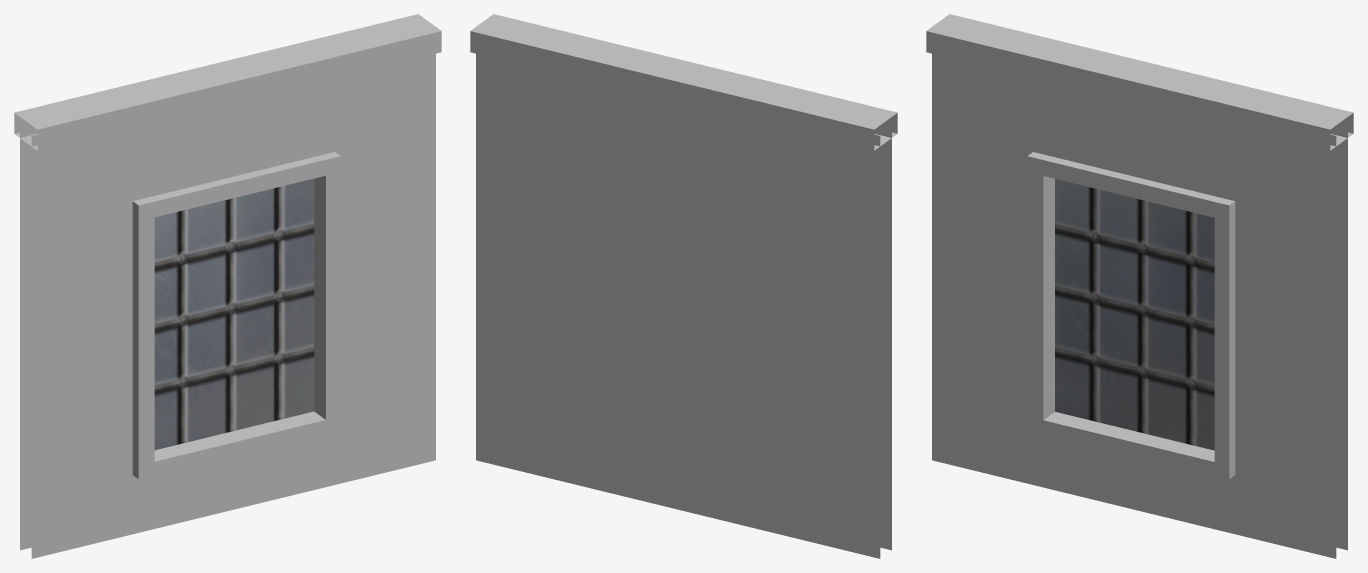
Rendered from Wall_2_6_Up.fbx.
3 renders of one model, left to right at view 1: azimuth 30°, elevation 25°; view 2: azimuth 150°, elevation 25°; view 3: azimuth 330°, elevation 25°, orthographic.
Visible parts, largest first — view 1: polySurface9835; view 2: polySurface9835; view 3: polySurface9835.
Boxes of the visible parts, <box> form: polySurface9835: <box>14,14,441,558</box>; polySurface9835: <box>470,14,897,558</box>; polySurface9835: <box>926,14,1353,558</box>.
Bounding box in the file's own units: 4 × 4.1 × 0.4.
